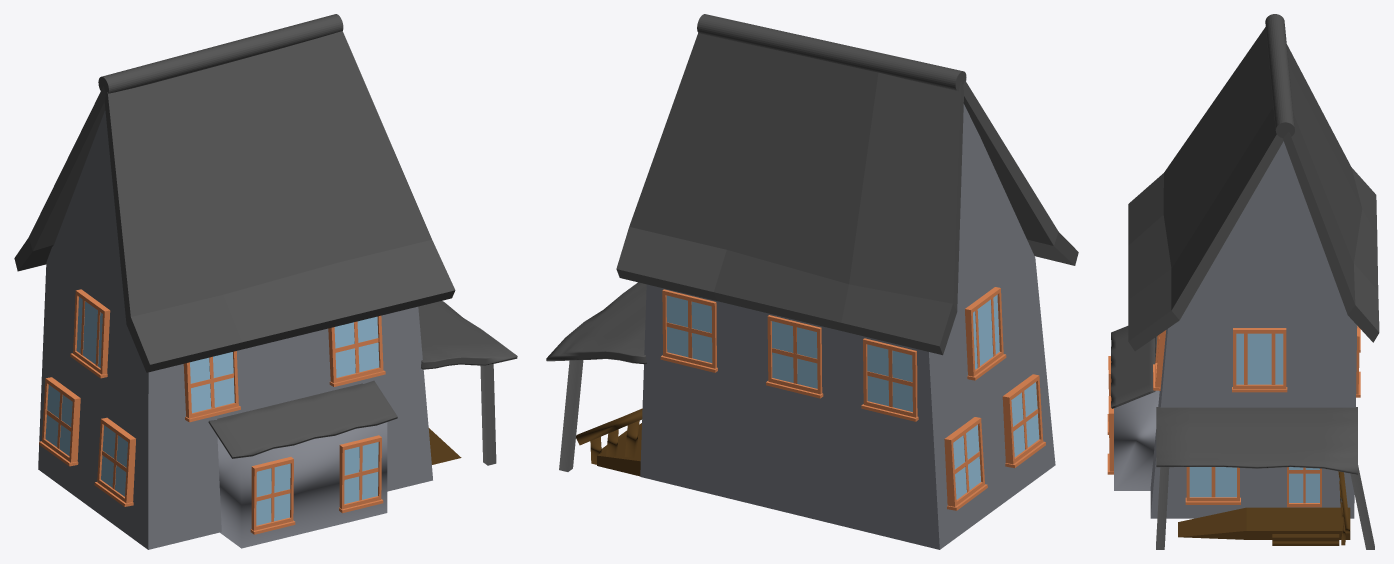
File: NewHouse1.fbx
3 views of the same model, side by side, from view 1: azimuth 30°, elevation 25°; view 2: azimuth 150°, elevation 25°; view 3: azimuth 270°, elevation 25° (orthographic). The views are drawn at different scales.
Parts seen in each view (by area): view 1: NewHouse1; view 2: NewHouse1; view 3: NewHouse1.
Boxes of the visible parts, <box> form: NewHouse1: <box>14,14,517,549</box>; NewHouse1: <box>546,14,1078,549</box>; NewHouse1: <box>1107,14,1379,549</box>.
Bounding box in the file's own units: 902 × 944 × 598.
